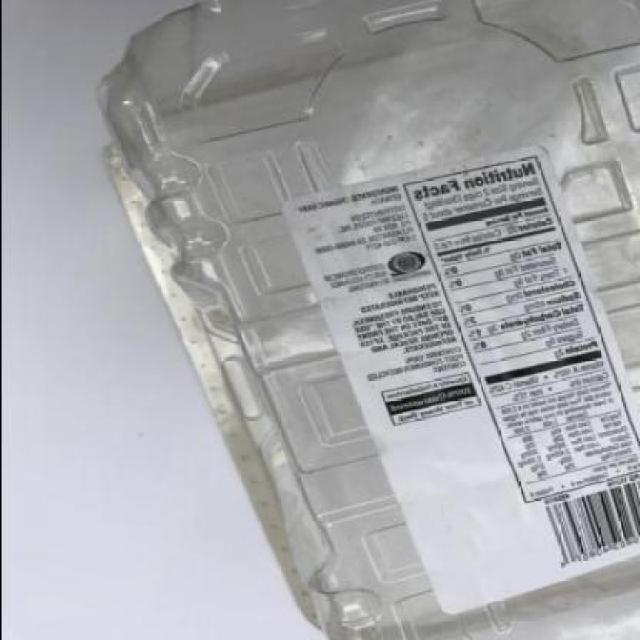PLASTIC: (91, 0, 638, 640)
